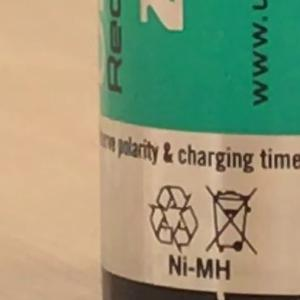NI-MH: (159, 249, 240, 286)
